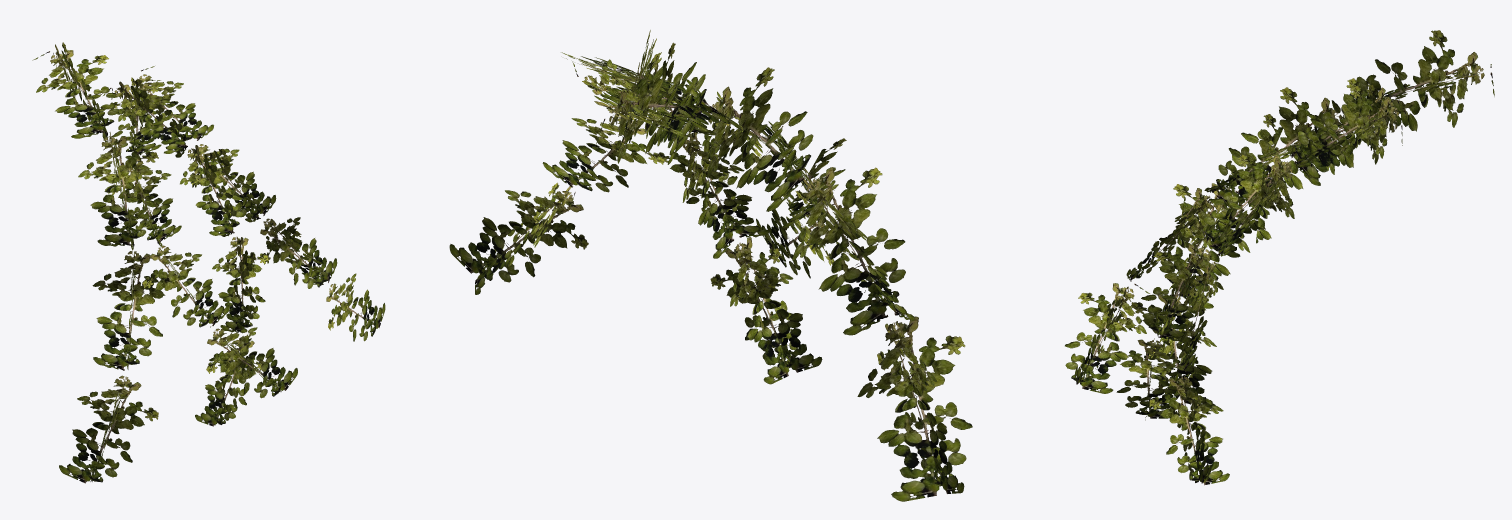
Rendered from NW_NATURE_HANGPLANTS_02.glb.
3 views of the same model, side by side, from view 1: azimuth 30°, elevation 25°; view 2: azimuth 150°, elevation 25°; view 3: azimuth 270°, elevation 25° (orthographic). The views are drawn at different scales.
Parts seen in each view (by area): view 1: Mesh; view 2: Mesh; view 3: Mesh.
Boxes of the visible parts, x1=… form: Mesh: x1=32, y1=42, x2=385, y2=483; Mesh: x1=449, y1=30, x2=972, y2=501; Mesh: x1=1065, y1=30, x2=1494, y2=485.
Size of the model in its own units: 5.45 by 5.69 by 5.23.
1 material, 1 textured.
